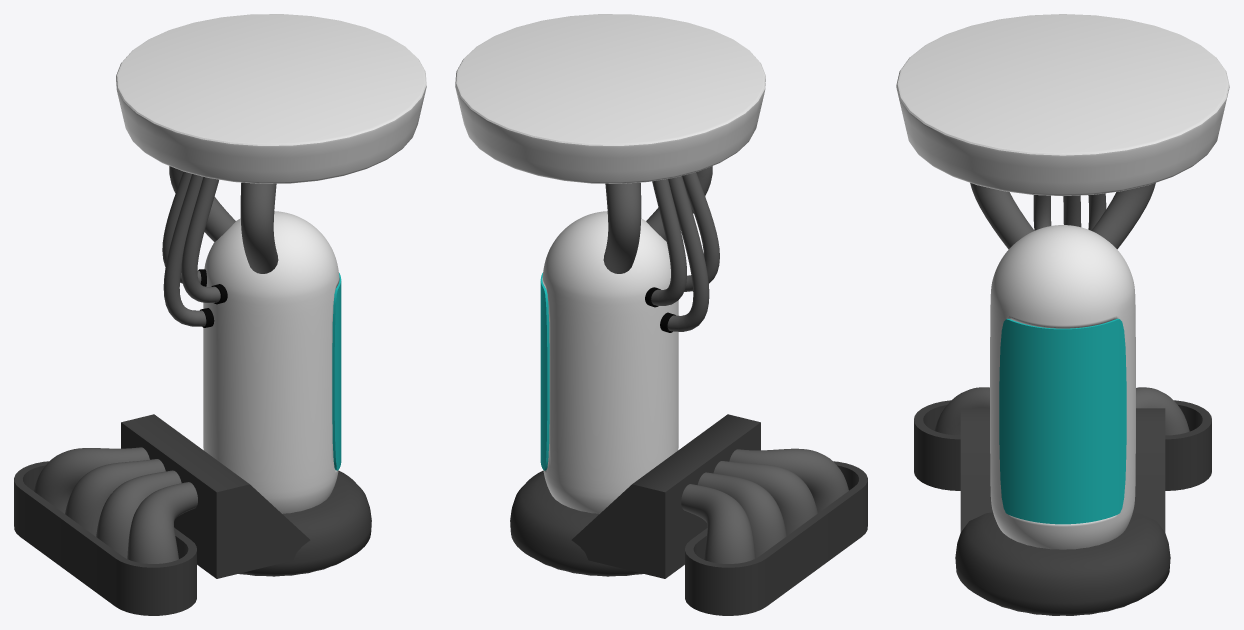
The model's file is Segap 01 10 Capsule.fbx.
The picture shows the model from 3 angles, left to right: view 1: azimuth 30°, elevation 25°; view 2: azimuth 150°, elevation 25°; view 3: azimuth 270°, elevation 25°; orthographic projection. The views are drawn at different scales.
Parts seen in each view (by area): view 1: Circle.014, Sphere.005, Cube.040, Circle.017, Circle.016, Obj_TT_tube.016, Obj_TT_tube.020, Obj_TT_tube.023, Obj_TT_tube.022, Obj_TT_tube.021, Obj_TT_tube.019, Obj_TT_tube.017 (+2 smaller); view 2: Circle.014, Sphere.005, Cube.040, Circle.017, Circle.016, Obj_TT_tube.023, Obj_TT_tube.016, Obj_TT_tube.020, Obj_TT_tube.021, Obj_TT_tube.022, Obj_TT_tube.019, Obj_TT_tube.018 (+2 smaller); view 3: Circle.014, Sphere.006, Sphere.005, Circle.016, Cube.040, Circle.017, Obj_TT_tube.016, Obj_TT_tube.020, Obj_TT_tube.023, Obj_TT_tube.017, Obj_TT_tube.019, Obj_TT_tube.018.
Boxes of the visible parts, x1,y1,x2,y2 form: Circle.014: [116, 14, 426, 183]; Sphere.005: [203, 211, 339, 513]; Cube.040: [121, 414, 310, 578]; Circle.017: [14, 461, 196, 615]; Circle.016: [238, 471, 371, 576]; Obj_TT_tube.016: [169, 166, 278, 273]; Obj_TT_tube.020: [127, 482, 197, 563]; Obj_TT_tube.023: [34, 447, 149, 513]; Obj_TT_tube.022: [65, 459, 165, 536]; Obj_TT_tube.021: [96, 470, 181, 558]; Obj_TT_tube.019: [163, 174, 206, 326]; Obj_TT_tube.017: [181, 177, 220, 302]; Circle.014: [455, 14, 765, 183]; Sphere.005: [542, 211, 678, 513]; Cube.040: [571, 414, 760, 578]; Circle.017: [685, 461, 867, 615]; Circle.016: [510, 471, 643, 576]; Obj_TT_tube.023: [681, 484, 755, 563]; Obj_TT_tube.016: [603, 166, 712, 273]; Obj_TT_tube.020: [729, 448, 848, 512]; Obj_TT_tube.021: [713, 461, 817, 535]; Obj_TT_tube.022: [697, 472, 786, 558]; Obj_TT_tube.019: [667, 176, 709, 331]; Obj_TT_tube.018: [651, 179, 686, 305]; Circle.014: [896, 14, 1229, 196]; Sphere.006: [999, 318, 1126, 524]; Sphere.005: [990, 225, 1135, 549]; Circle.016: [955, 512, 1170, 615]; Cube.040: [960, 408, 1165, 532]; Circle.017: [914, 400, 1211, 490]; Obj_TT_tube.016: [970, 183, 1155, 249]; Obj_TT_tube.020: [934, 387, 989, 435]; Obj_TT_tube.023: [1136, 387, 1189, 435]; Obj_TT_tube.017: [1033, 195, 1051, 230]; Obj_TT_tube.019: [1063, 195, 1081, 227]; Obj_TT_tube.018: [1088, 193, 1106, 230].
Bounding box in the file's own units: 408 × 534 × 326.
